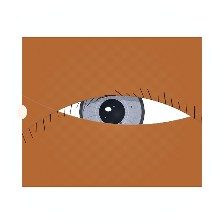pinguecula_lesion: (45, 98, 88, 132)
